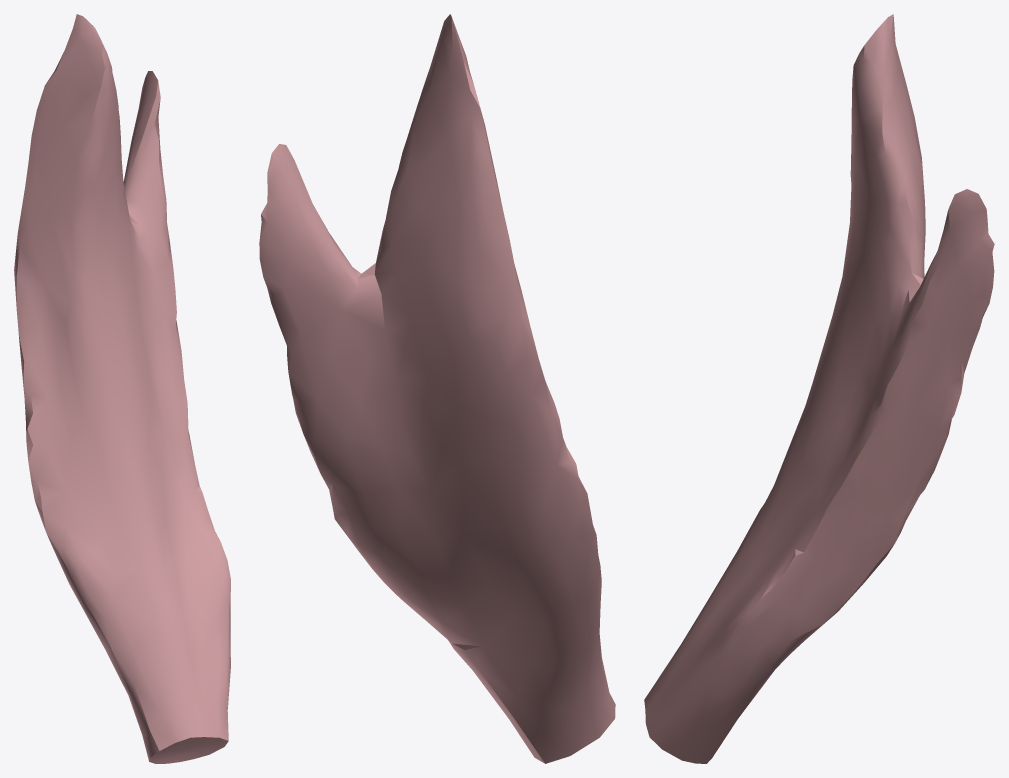
The model's file is fma46138_mm1951m.glb.
3 views of the same model, side by side, from view 1: azimuth 30°, elevation 25°; view 2: azimuth 150°, elevation 25°; view 3: azimuth 270°, elevation 25° (orthographic). The views are drawn at different scales.
Parts seen in each view (by area): view 1: FMA46138_MM1951M; view 2: FMA46138_MM1951M; view 3: FMA46138_MM1951M.
Part boxes in pixels (box(x1,y1,x2,y2)): FMA46138_MM1951M: box(14, 14, 230, 763); FMA46138_MM1951M: box(259, 14, 615, 763); FMA46138_MM1951M: box(644, 14, 994, 763).
Bounding box in the file's own units: 0.00983 × 0.0331 × 0.0142.
